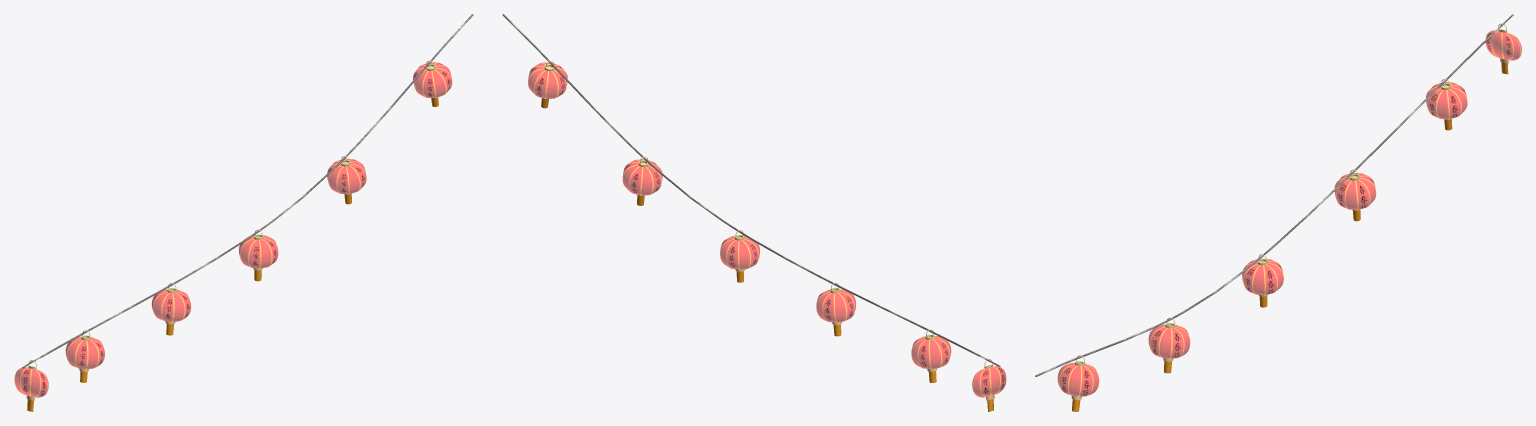
File: SM_lamp_spline_Splines_10.fbx
The picture shows the model from 3 angles, left to right: view 1: azimuth 90°, elevation 25°; view 2: azimuth 150°, elevation 25°; view 3: azimuth 270°, elevation 25°; orthographic projection. The views are drawn at different scales.
Visible parts, largest first — view 1: SM_lamp_spline_Splines_10; view 2: SM_lamp_spline_Splines_10; view 3: SM_lamp_spline_Splines_10.
Part boxes in pixels (left/top/right/bottom): SM_lamp_spline_Splines_10: left=14, top=14, right=473, bottom=411; SM_lamp_spline_Splines_10: left=502, top=14, right=1006, bottom=411; SM_lamp_spline_Splines_10: left=1035, top=14, right=1521, bottom=411.
Bounding box in the file's own units: 1140 × 637 × 154.
